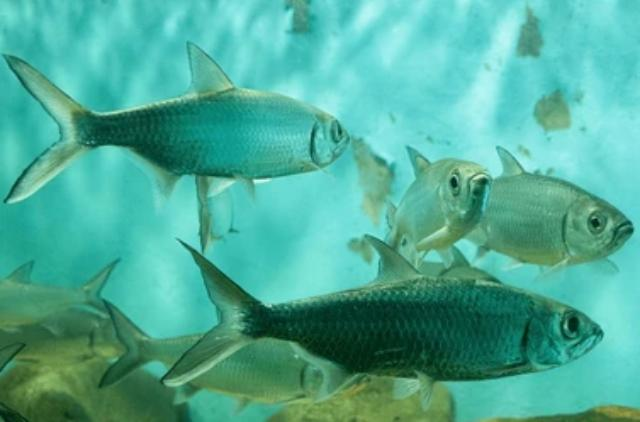Mulut: (462, 162, 498, 202), (582, 311, 614, 353), (610, 204, 636, 252)
Sirip Anal: (286, 331, 364, 413), (112, 140, 186, 214)
Sirip Dada: (522, 251, 576, 287), (478, 352, 536, 384), (290, 150, 334, 188), (586, 250, 626, 288)
Sirip Ekor: (156, 232, 264, 396), (0, 44, 92, 220), (88, 295, 158, 395)
Sirip Perut: (384, 356, 444, 412), (207, 162, 265, 208)
Sirip Punggung: (173, 28, 241, 104), (358, 226, 426, 294), (490, 131, 532, 189), (398, 139, 442, 189)
